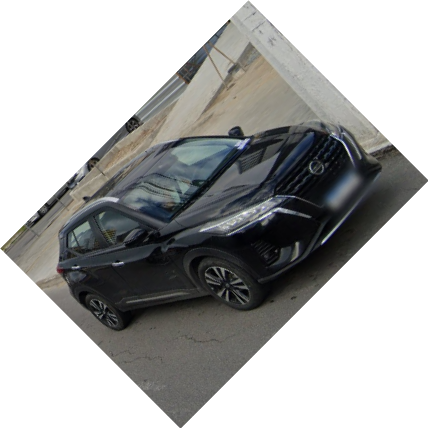car: (58, 119, 387, 335)
